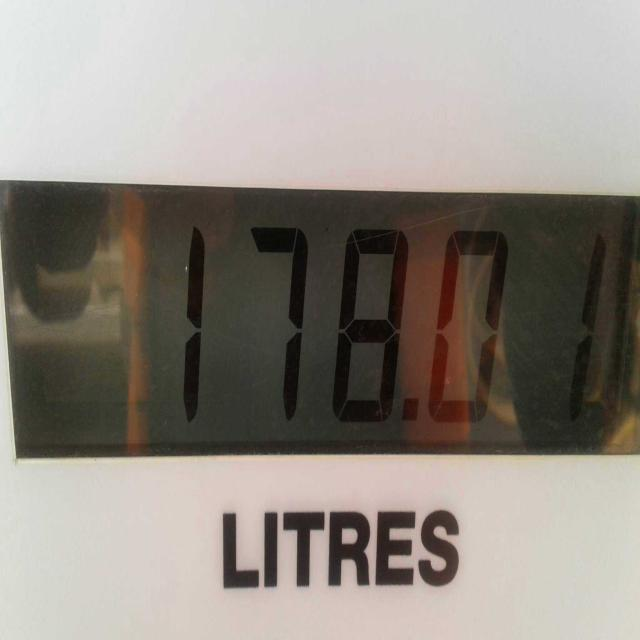.: (401, 394, 422, 436)
0: (430, 225, 509, 427)
1: (174, 220, 219, 428), (564, 224, 607, 415)
7: (250, 220, 317, 422)
8: (320, 224, 400, 431)
